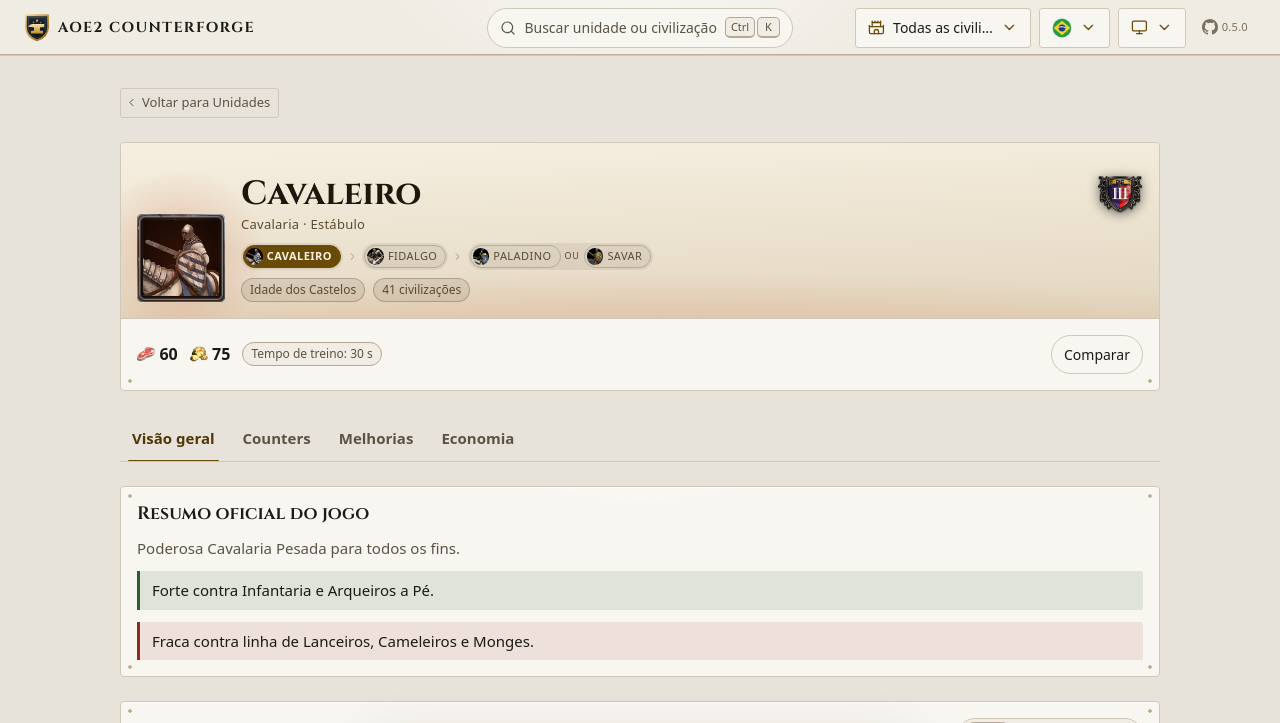
Scenario: App › shows the computed counters for a unit
The width and height of the screenshot is (1280, 723).
Click the tab "Counters": x=277, y=438 [230,414,323,461]
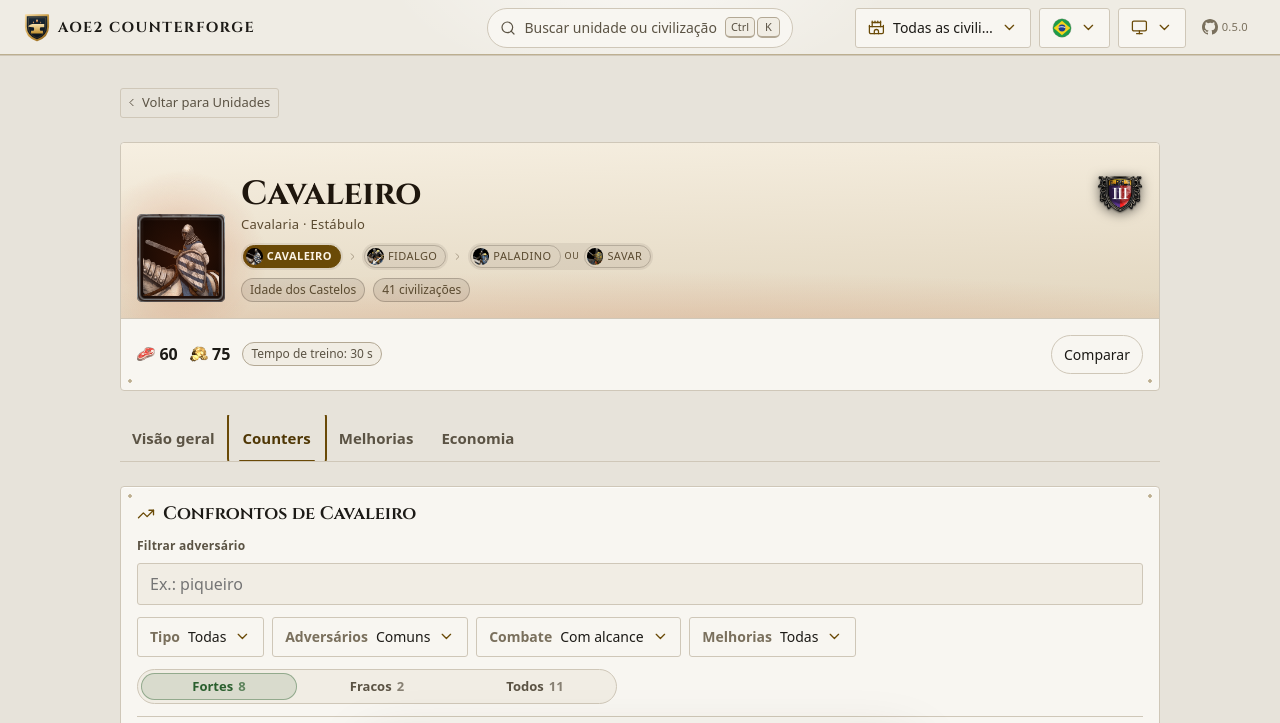
Now the button "Fortes8" is shown, box [141,673,297,700]
